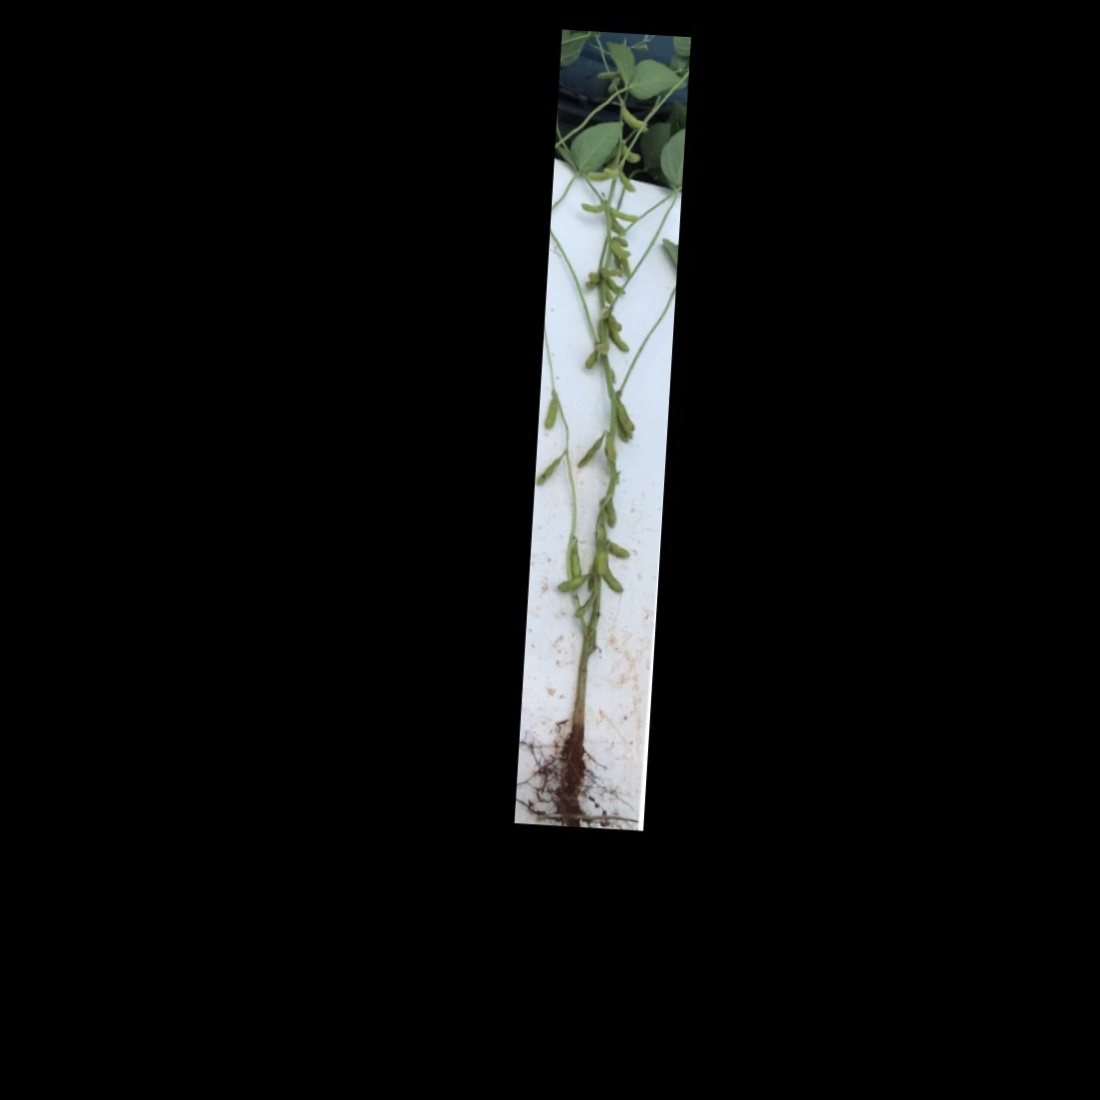pod: (575, 428, 608, 475), (537, 450, 569, 489), (618, 102, 650, 131), (568, 537, 588, 579), (541, 393, 560, 433), (573, 589, 596, 618), (607, 207, 643, 225), (597, 263, 625, 280), (577, 201, 608, 214)
soy: (518, 31, 688, 828)
